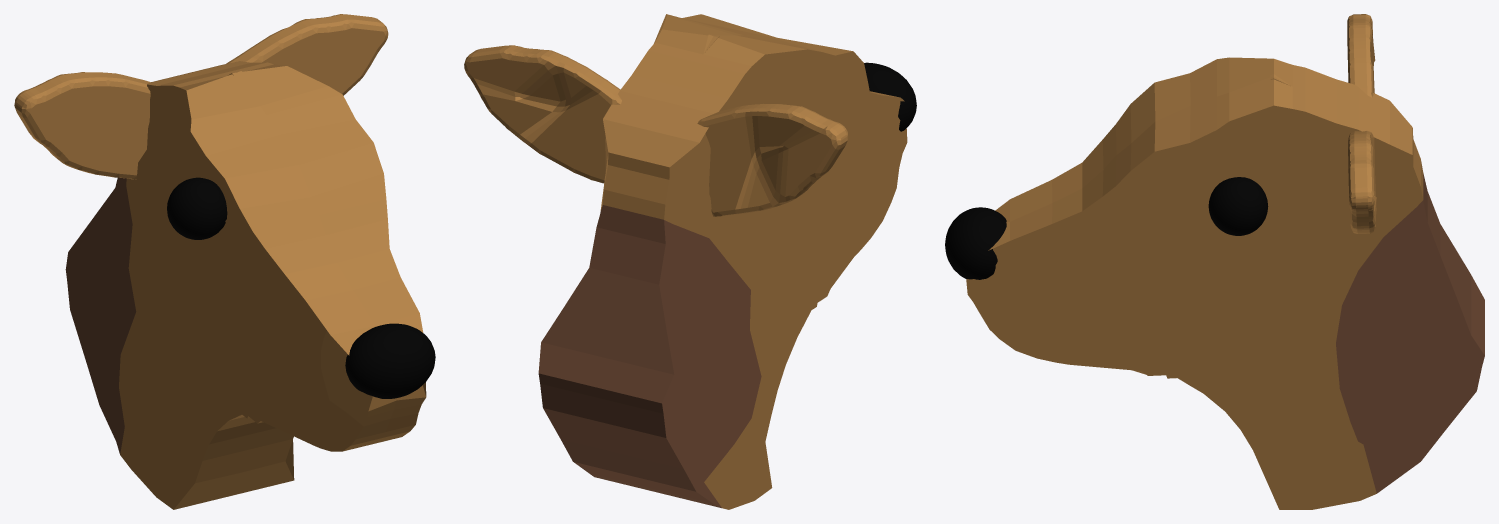
The model's file is deer_head.fbx.
The picture shows the model from 3 angles, left to right: view 1: azimuth 30°, elevation 25°; view 2: azimuth 150°, elevation 25°; view 3: azimuth 270°, elevation 25°; orthographic projection. The views are drawn at different scales.
Parts seen in each view (by area): view 1: Plane.002; view 2: Plane.002; view 3: Plane.002.
Boxes of the visible parts, left/top/right/bottom form: Plane.002: left=14, top=14, right=435, bottom=509; Plane.002: left=464, top=14, right=916, bottom=509; Plane.002: left=945, top=14, right=1484, bottom=509.
Bounding box in the file's own units: 75.22 × 83.28 × 100.
